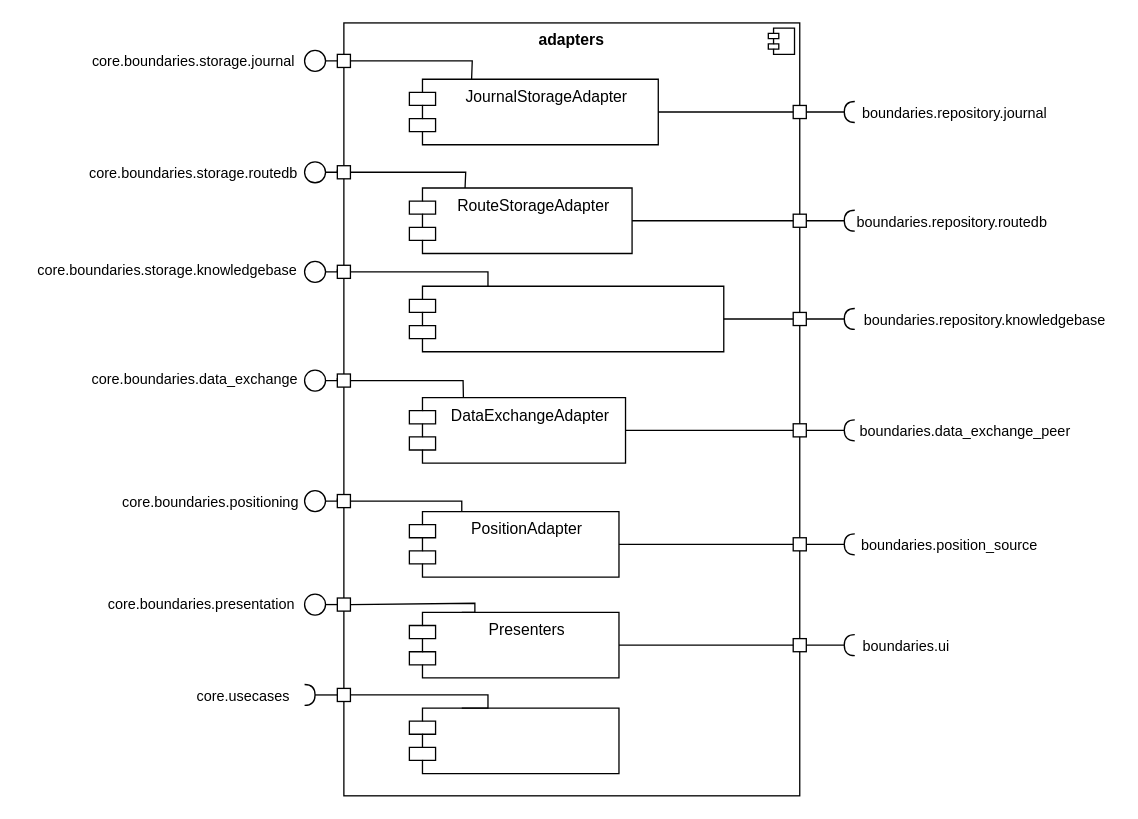
The diagram is 1138 pixels wide and 819 high, and some of its shapes have lost their labels. Each missing label, with the centre of its shape:
"Controllers" goes at point 513,740.
"KnowledgebaseStorageAdapter" goes at point 566,318.
